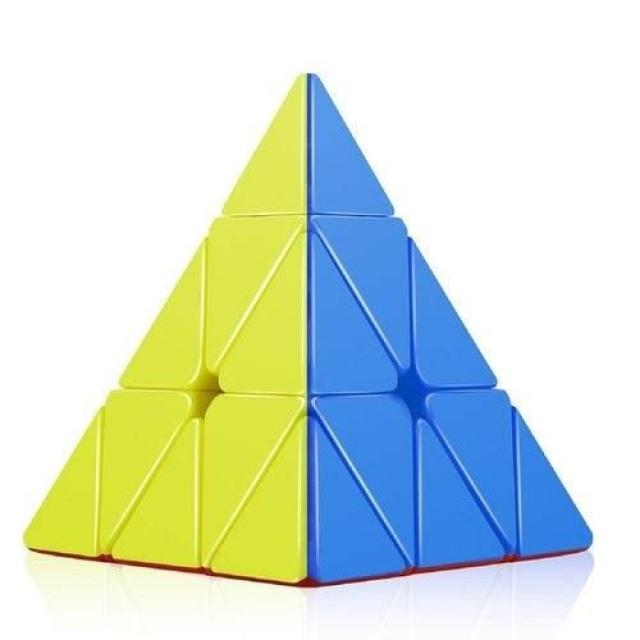Pyraminx: (22, 64, 598, 589)
